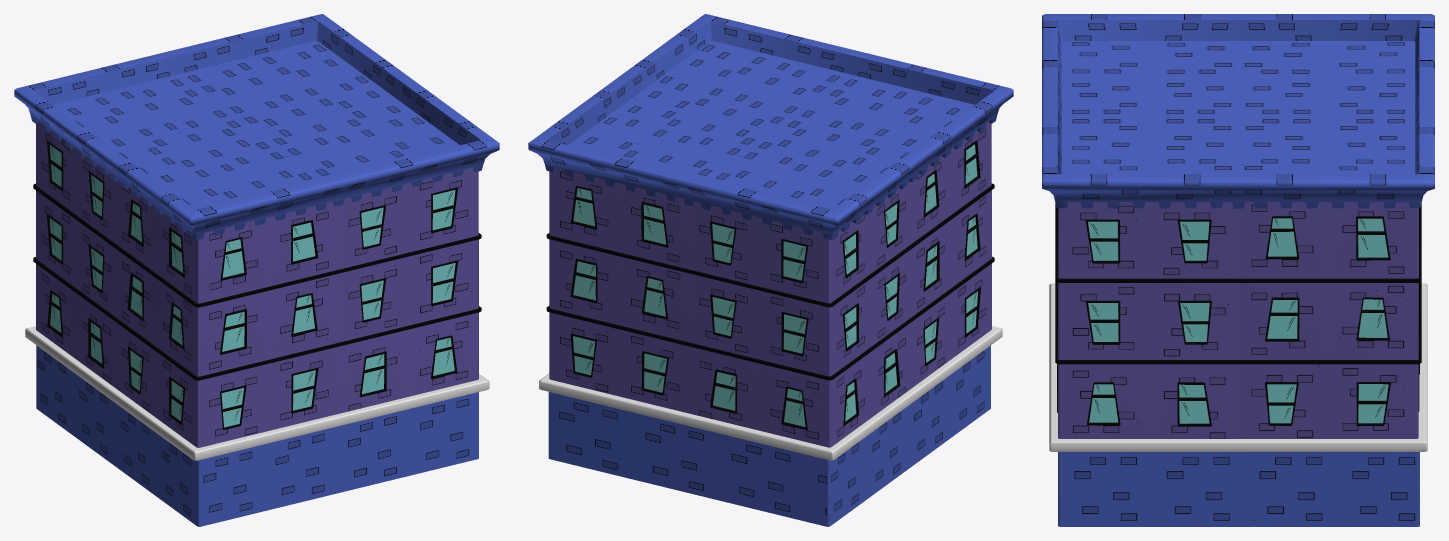
File: 4x3w_Building.fbx
The picture shows the model from 3 angles, left to right: view 1: azimuth 30°, elevation 25°; view 2: azimuth 150°, elevation 25°; view 3: azimuth 270°, elevation 25°; orthographic projection. The views are drawn at different scales.
Parts seen in each view (by area): view 1: 2x006, roof006, ground floor004, bar004; view 2: 2x006, roof006, ground floor004, bar004; view 3: 2x006, roof006, ground floor004, bar004.
Boxes of the visible parts, bbox=[...] form: 2x006: bbox=[33, 122, 481, 447]; roof006: bbox=[14, 14, 499, 240]; ground floor004: bbox=[36, 345, 478, 526]; bar004: bbox=[25, 326, 489, 460]; 2x006: bbox=[546, 121, 994, 447]; roof006: bbox=[528, 14, 1013, 239]; ground floor004: bbox=[548, 345, 990, 526]; bar004: bbox=[539, 326, 1002, 460]; 2x006: bbox=[1055, 202, 1421, 438]; roof006: bbox=[1042, 14, 1434, 208]; ground floor004: bbox=[1058, 452, 1419, 526]; bar004: bbox=[1049, 283, 1427, 451].
Size of the model in its own units: 10.9 by 10.69 by 10.78.
